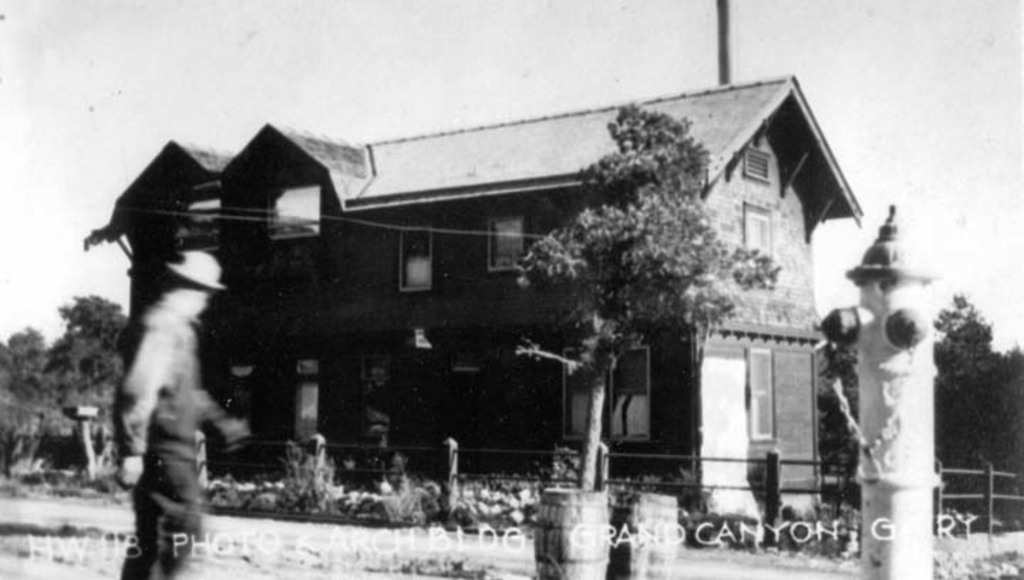Tree: (510, 81, 775, 476)
